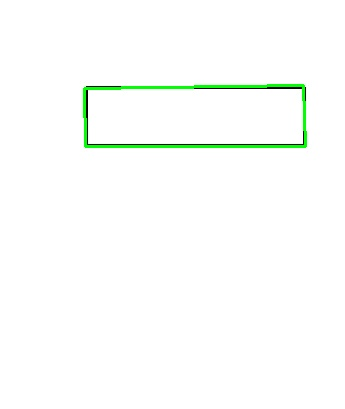line_segment: (84, 85, 306, 148)
